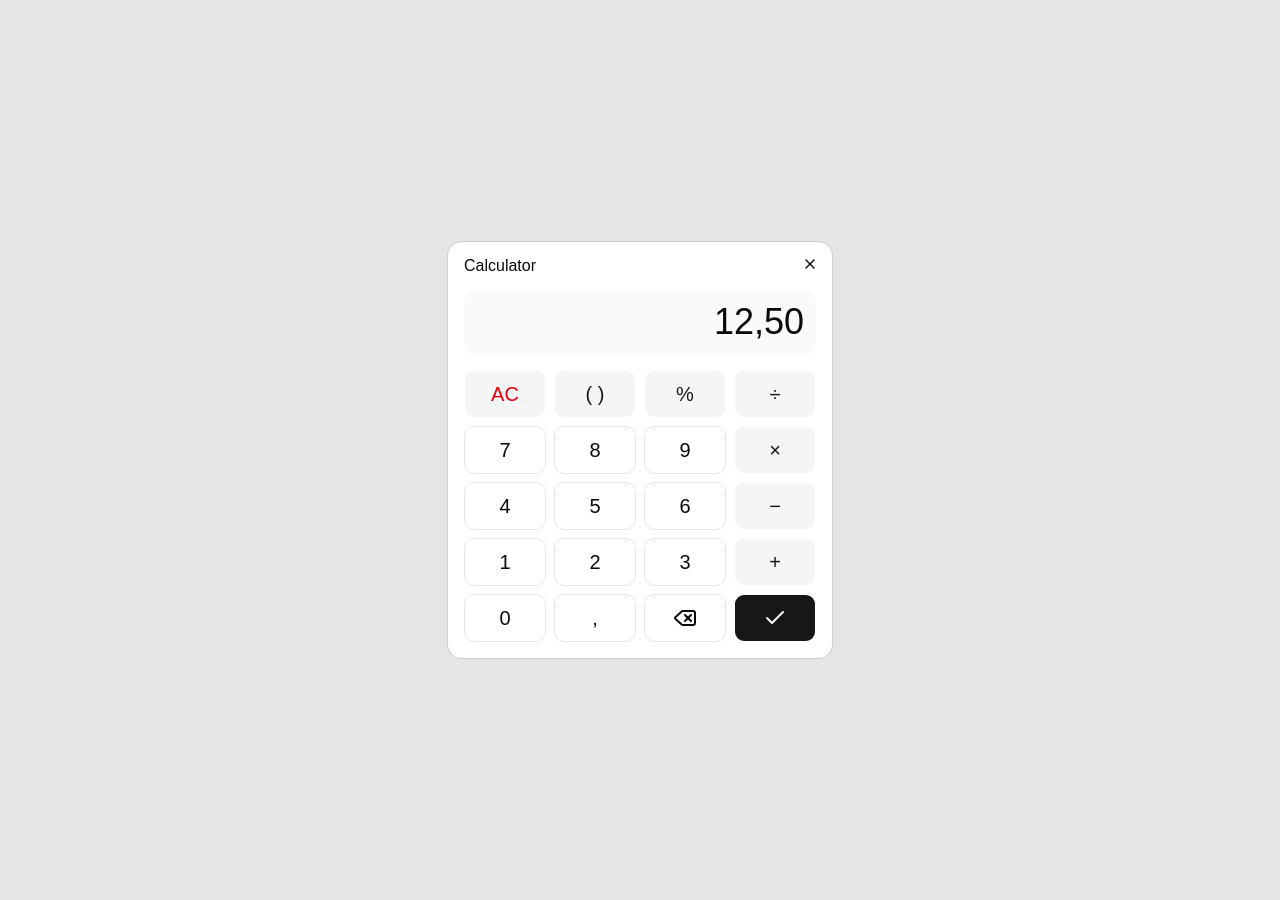
Scenario: CalculatorSheet › erases a character at a time, or all of it at once
The width and height of the screenshot is (1280, 900).
Click the button named "Erase the last character" at (685, 618), box [644,594,726,642]
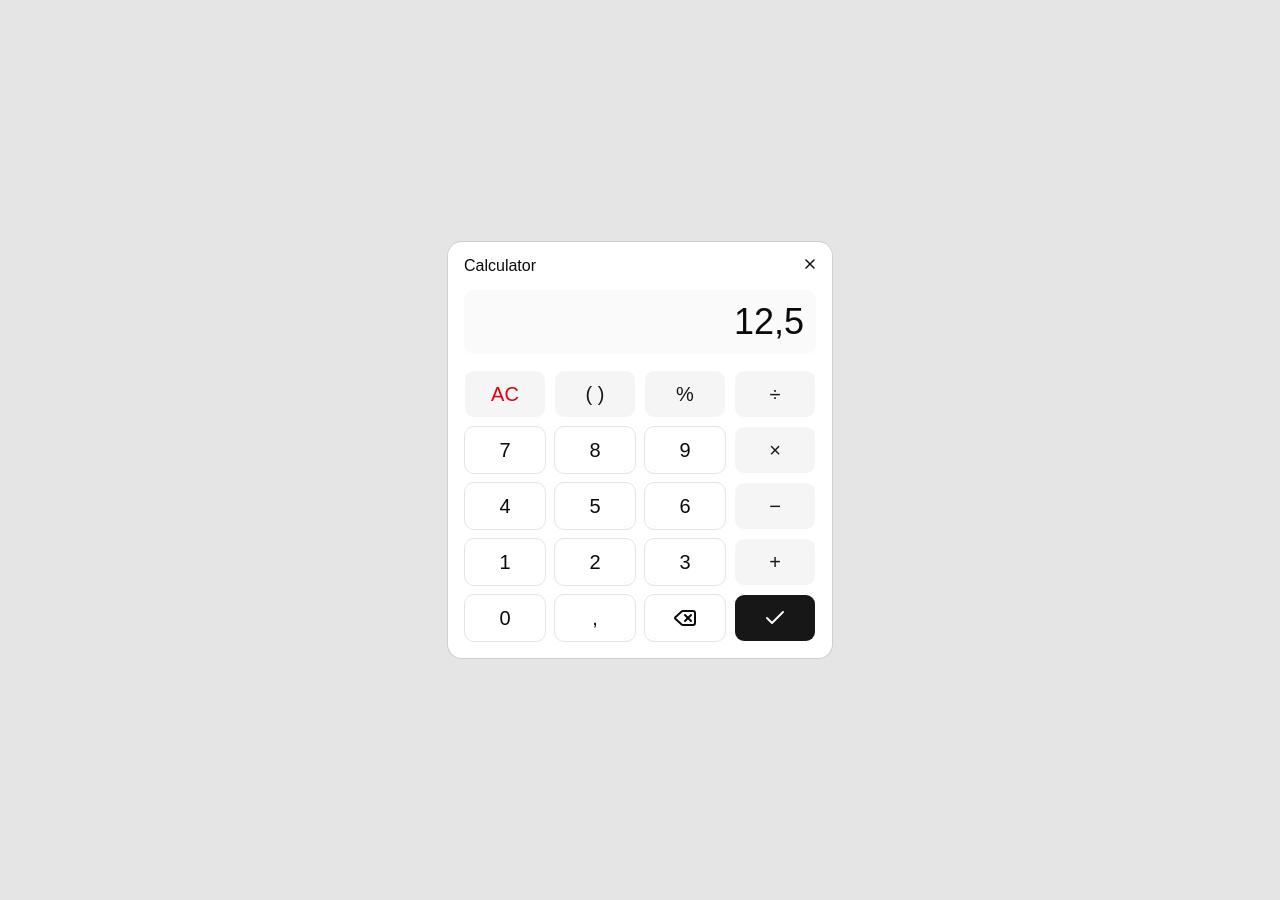
Click the button named "Erase the last character" at (685, 618), box [644,594,726,642]
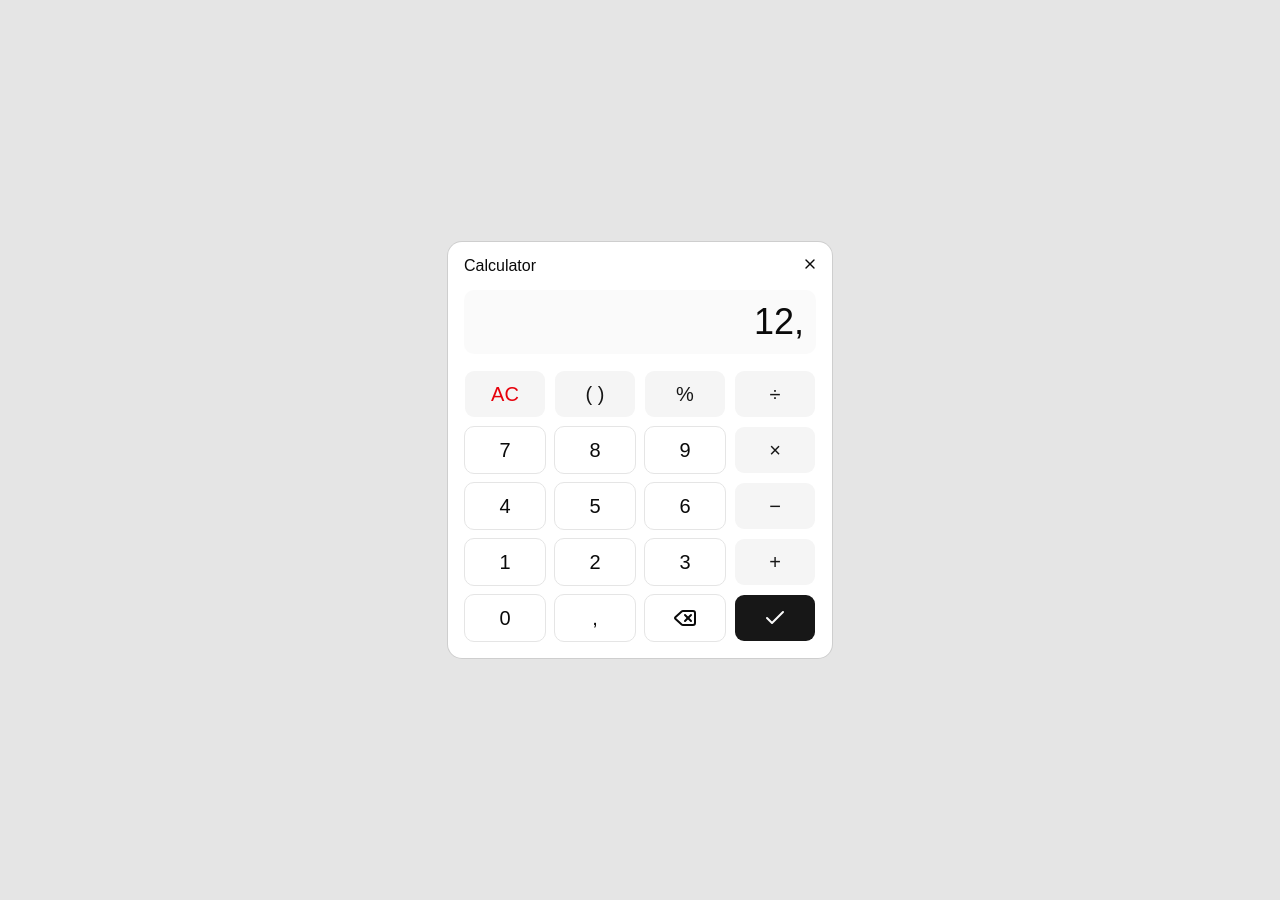
Click the button with aria-label "Clear all" at (505, 394), box [464,370,546,418]
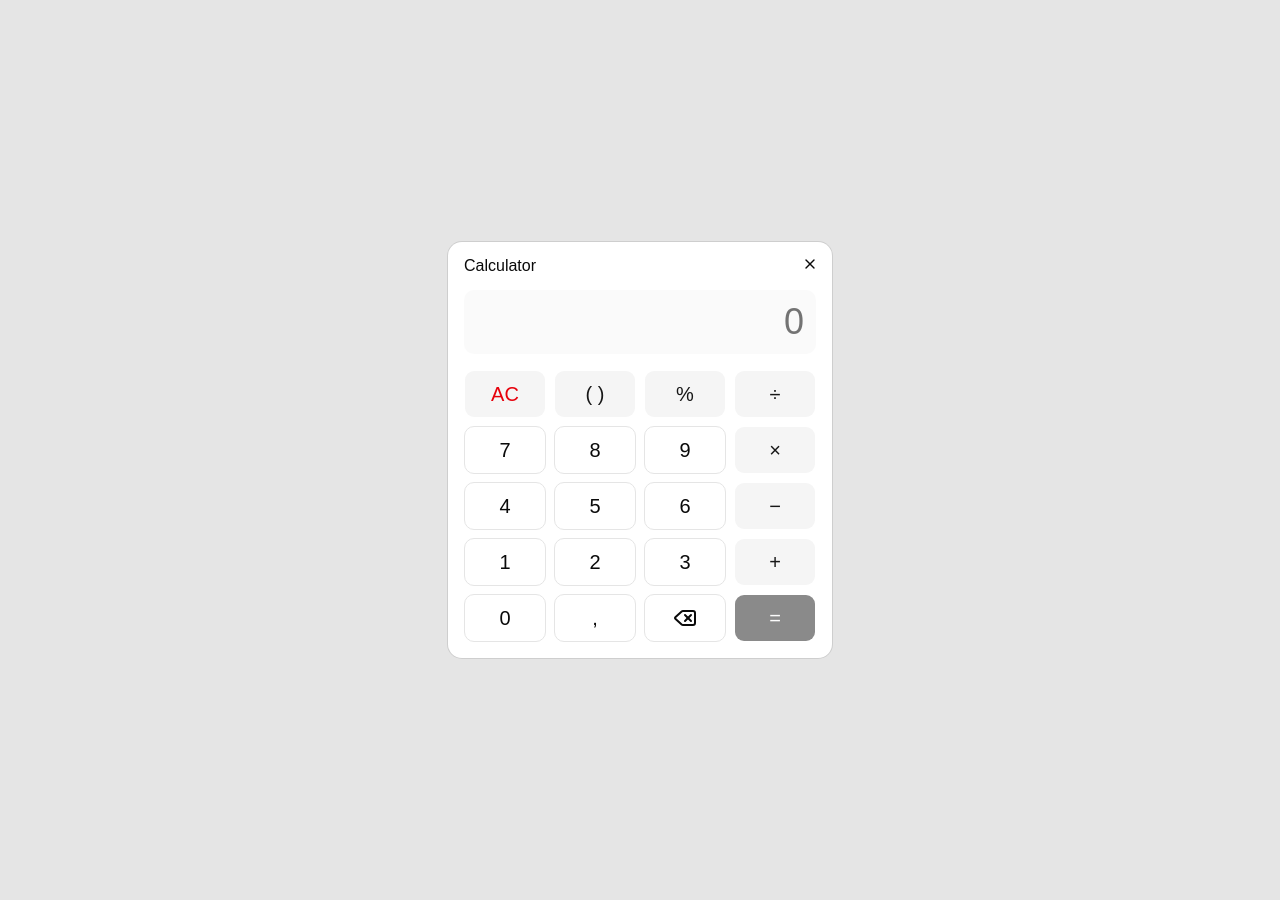
Now the button named "Equals" is disabled, box [734,594,816,642]
